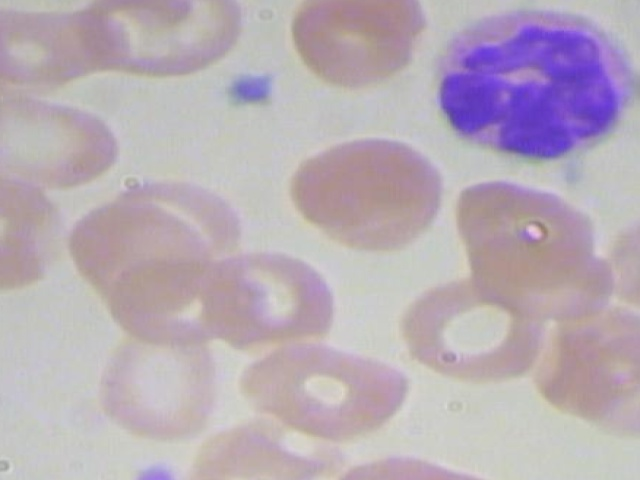Platelets: (222, 63, 280, 111), (126, 455, 185, 480)
RBC: (272, 131, 456, 257), (229, 338, 415, 451), (77, 317, 226, 447), (399, 268, 550, 389), (74, 0, 258, 82), (0, 88, 132, 198), (285, 0, 440, 92), (0, 159, 87, 304), (586, 198, 640, 321)
WBC: (411, 3, 640, 172)
